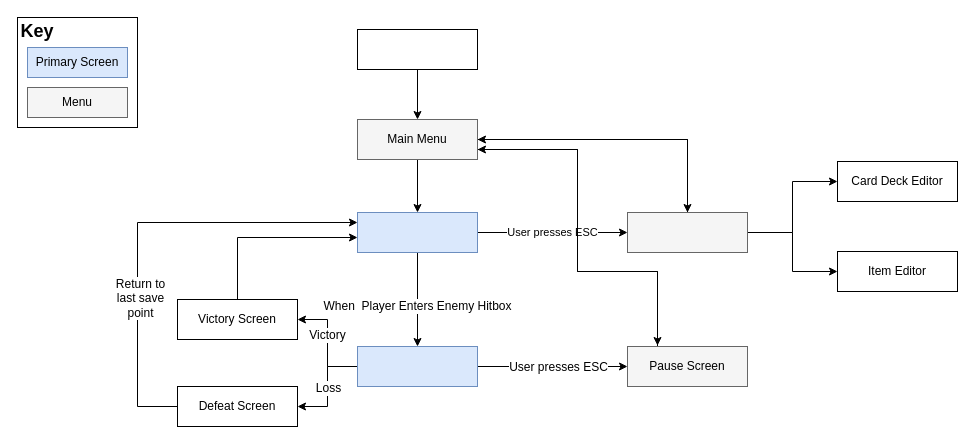
Image size: 975x444. Some labels were removed from this diagram. Each missing label, with the centre of its shape:
"Combat View" goes at pixel 417 366.
"Gameplay Menu" goes at pixel 687 232.
"Load Screen" goes at pixel 417 49.
"Overworld" goes at pixel 417 232.
